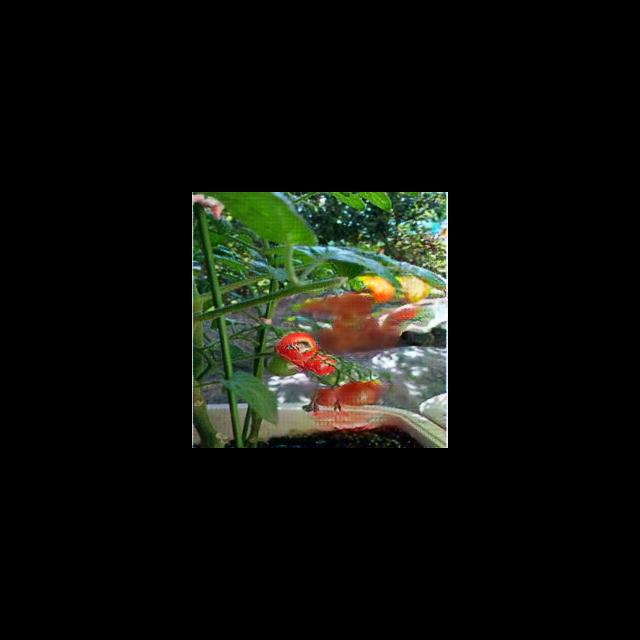tomato: (275, 332, 317, 364)
